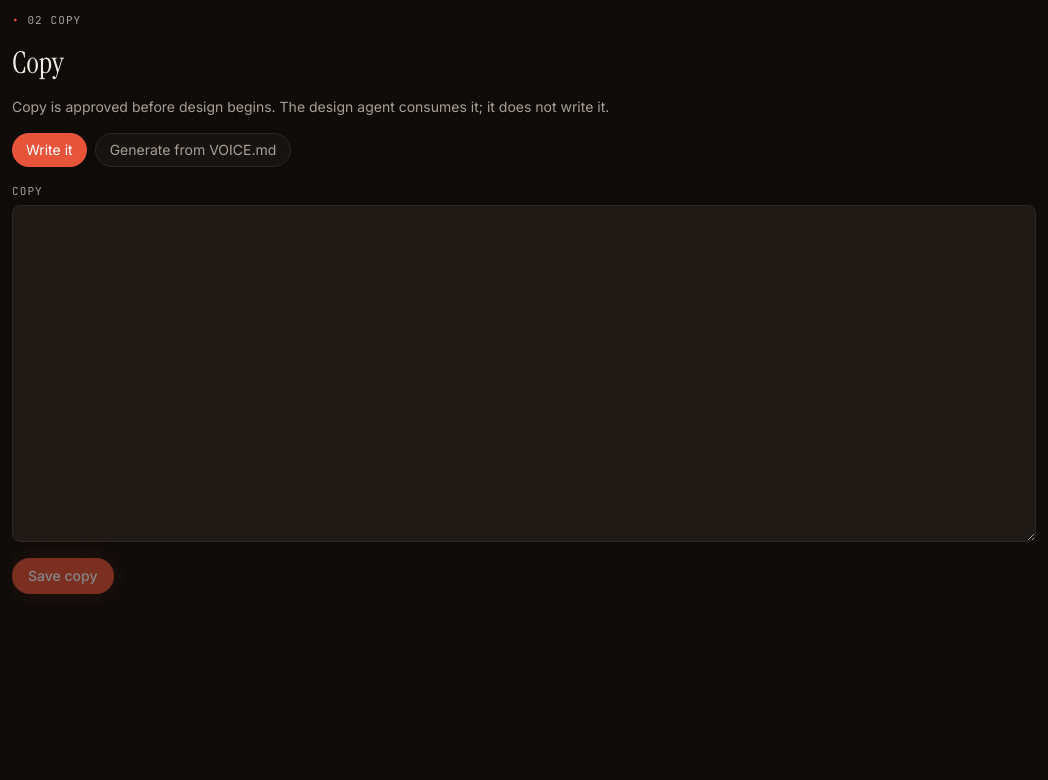
CopyStage › disables generate when the brand has no coding-agent model enabled
This screenshot has width=1048, height=780.
Click the tab "Generate from VOICE.md". click: (193, 150)
box: [95,132,291,166]
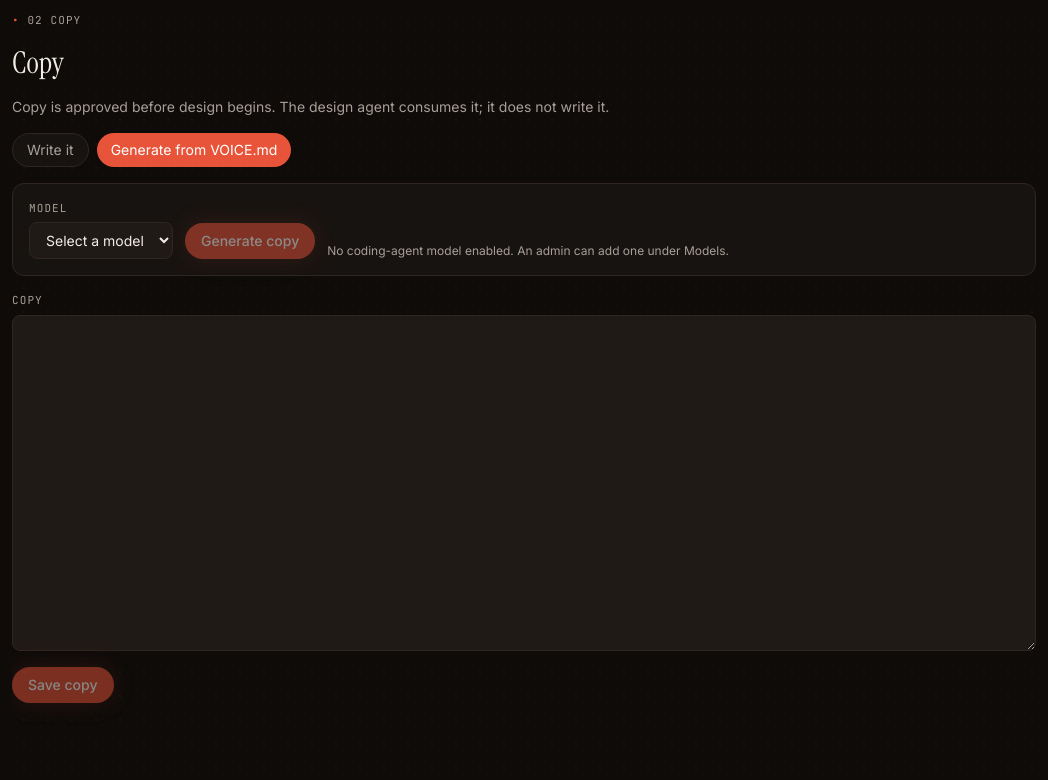
Result: the button "Generate copy" is disabled at [185,223,315,259]
Result: the text "No coding-agent model enabled" is shown at [327,243,729,258]
